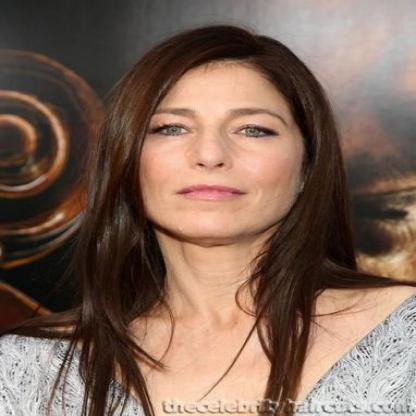long-hair: (84, 241, 351, 311)
